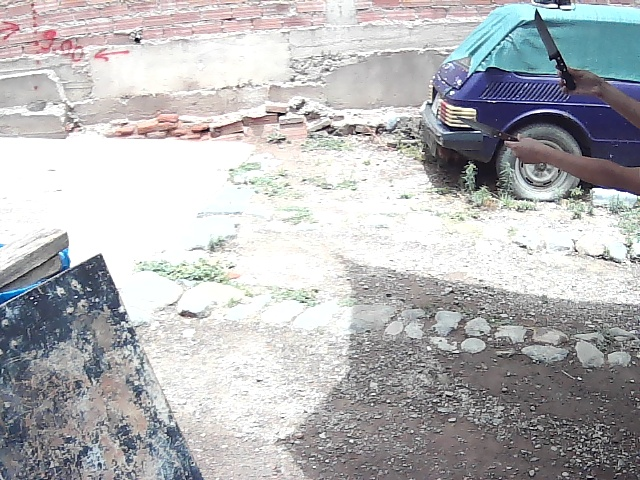cuchillo: (529, 8, 570, 68), (454, 114, 510, 142)
